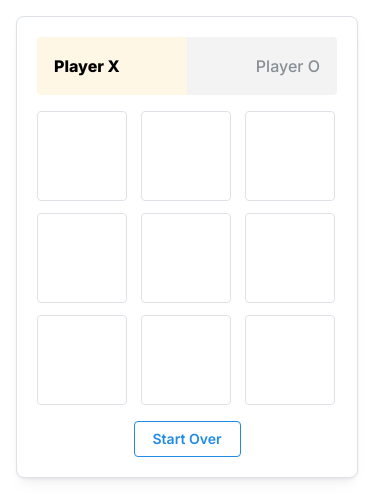
Board › show the winner when a player wins
# simulate a win for player x
Click the 1st button with test id "square": (82, 156) [37,111,127,201]
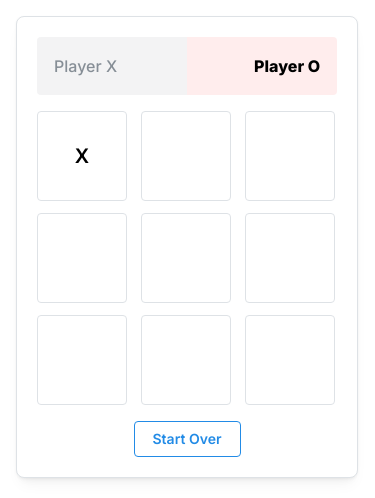
Click the 2nd button with test id "square": (186, 156) [141,111,231,201]
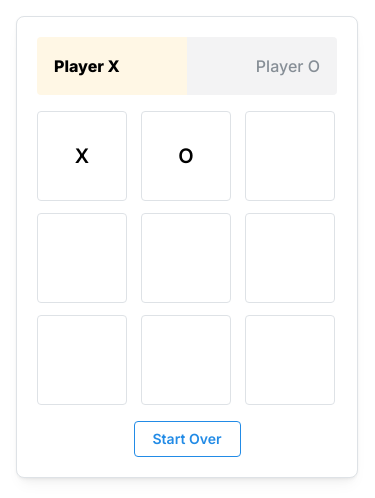
Click the 4th button with test id "square": (82, 258) [37,213,127,303]
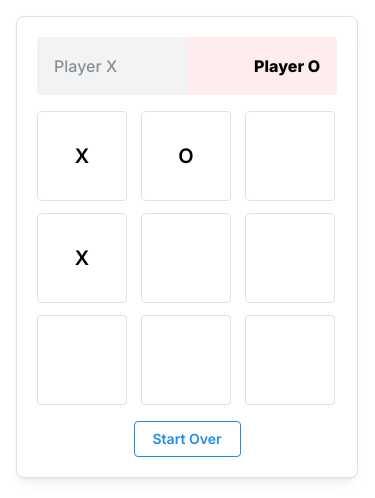
Click the 5th button with test id "square": (186, 258) [141,213,231,303]
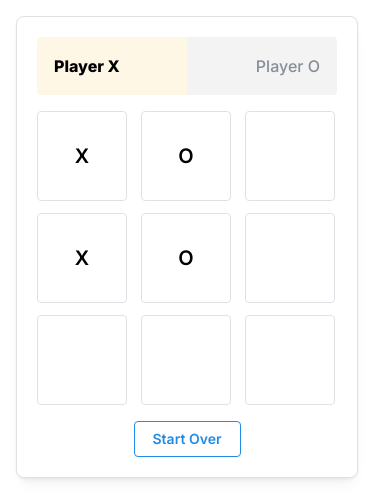
Click the 7th button with test id "square": (82, 360) [37,315,127,405]
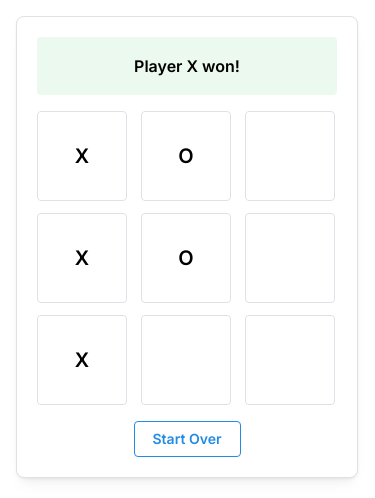
Expected: the text "Player X won!" is shown, [134,56,240,76]
